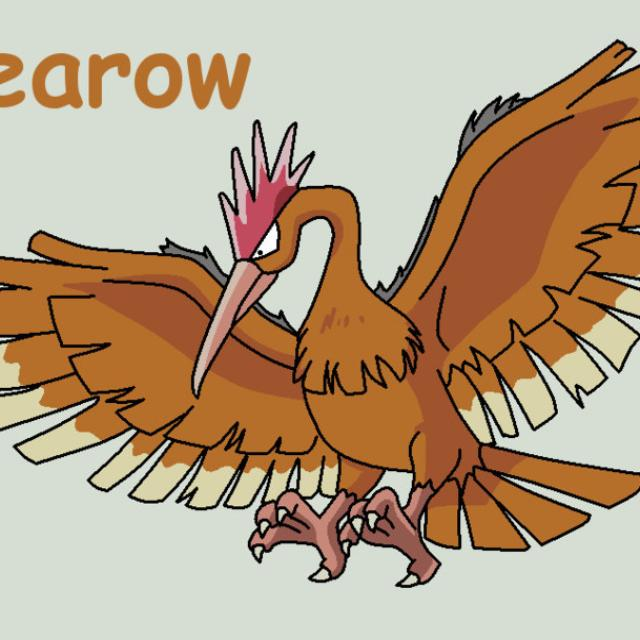Fearow: (164, 122, 515, 574)
